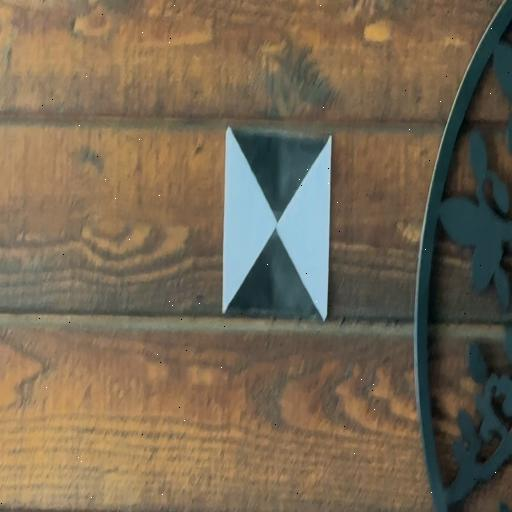target: (226, 124, 329, 321)
